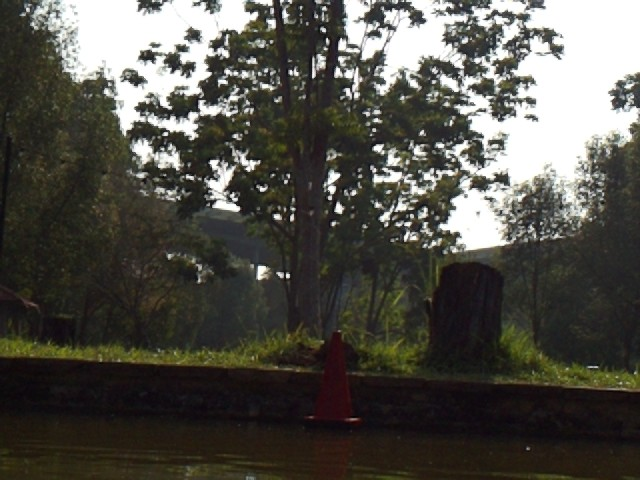obstacle: (305, 331, 364, 429)
